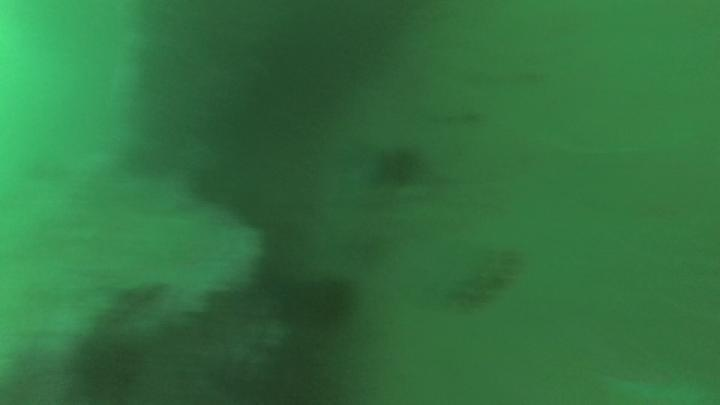echinus: (69, 329, 147, 404), (276, 272, 356, 333), (372, 143, 424, 190)
holothurian: (442, 242, 526, 313)
starfish: (599, 360, 715, 405)
